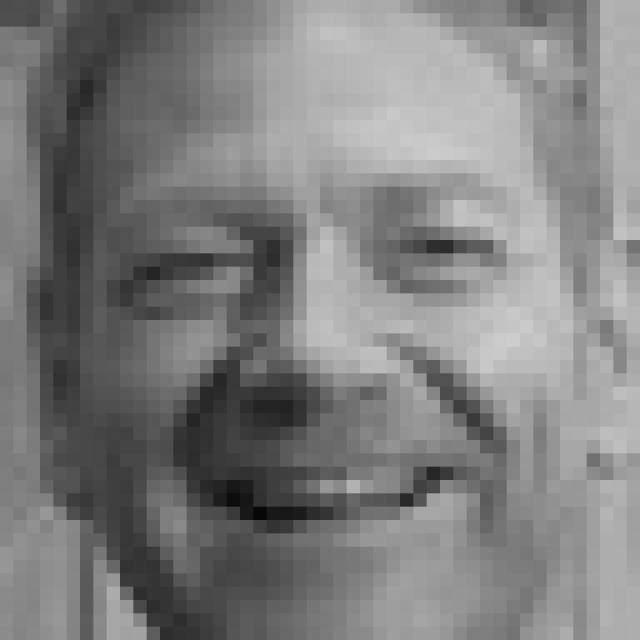happy: (107, 152, 528, 582)
